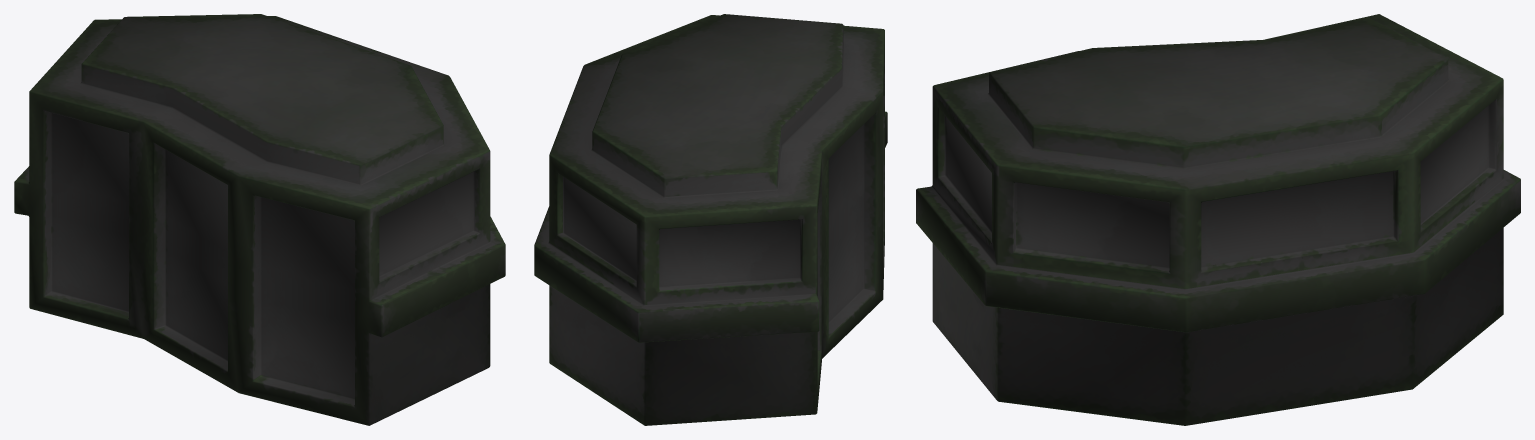
Rendered from building1.fbx.
3 views of the same model, side by side, from view 1: azimuth 30°, elevation 25°; view 2: azimuth 150°, elevation 25°; view 3: azimuth 270°, elevation 25° (orthographic). The views are drawn at different scales.
Visible parts, largest first — view 1: Cylinder.001; view 2: Cylinder.001; view 3: Cylinder.001.
Boxes of the visible parts, x1,y1,x2,y2 form: Cylinder.001: (14, 14, 505, 425); Cylinder.001: (534, 14, 887, 425); Cylinder.001: (916, 14, 1520, 425).
Size of the model in its own units: 1698 by 1093 by 2313.
1 material, 1 textured.
